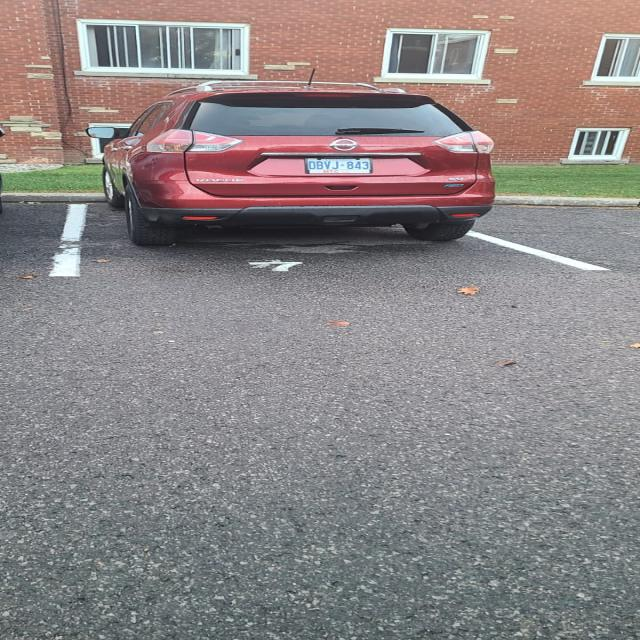plaque: (306, 158, 372, 174)
